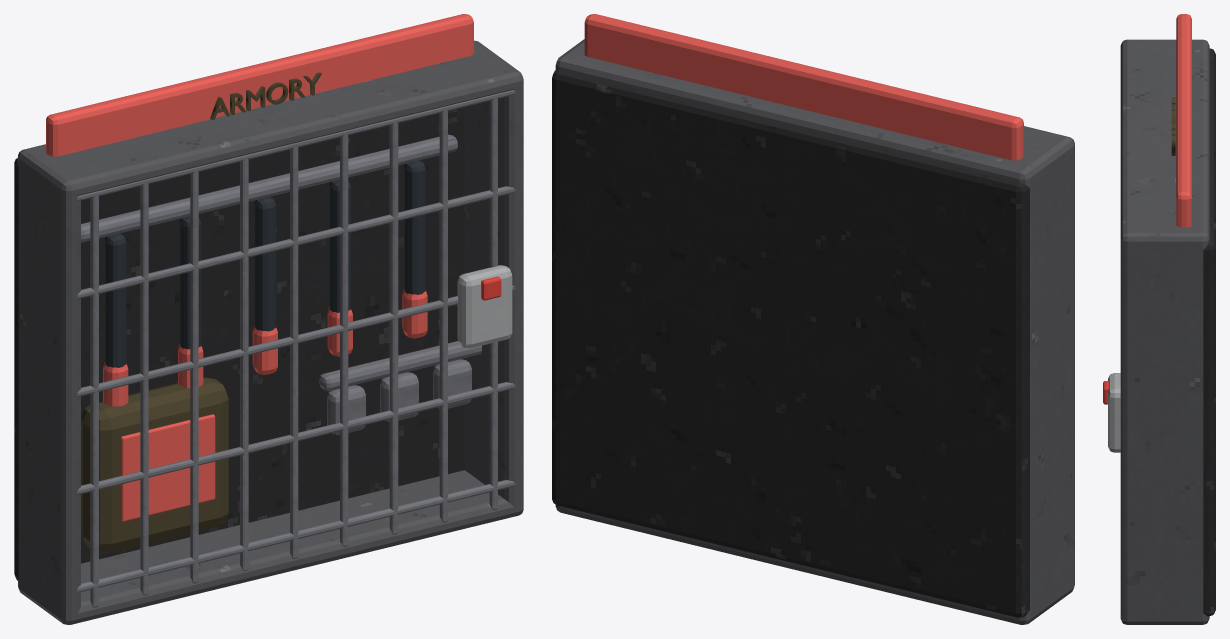
The model's file is decor_sec_armory_rack.glb.
3 views of the same model, side by side, from view 1: azimuth 30°, elevation 25°; view 2: azimuth 150°, elevation 25°; view 3: azimuth 270°, elevation 25° (orthographic). The views are drawn at different scales.
Visible parts, largest first — view 1: DEC_SecArmoryRack__Cabinet_Back, DEC_SecArmoryRack__Cabinet_Post_1, DEC_SecArmoryRack__Cabinet_Frame, DEC_SecArmoryRack__Cabinet_Sill, DEC_SecArmoryRack__Header, DEC_SecArmoryRack__Cabinet_Post_2, DEC_SecArmoryRack__Vest, DEC_SecArmoryRack__Vest_Panel, DEC_SecArmoryRack__Baton_Rail, DEC_SecArmoryRack__Mesh_Bar_V_7, DEC_SecArmoryRack__Lock_Plate, DEC_SecArmoryRack__Mesh_Bar_H_2 (+25 smaller); view 2: DEC_SecArmoryRack__Cabinet_Back, DEC_SecArmoryRack__Cabinet_Post_1, DEC_SecArmoryRack__Header, DEC_SecArmoryRack__Cabinet_Frame, DEC_SecArmoryRack__Cabinet_Sill; view 3: DEC_SecArmoryRack__Cabinet_Post_2, DEC_SecArmoryRack__Cabinet_Frame, DEC_SecArmoryRack__Cabinet_Back, DEC_SecArmoryRack__Header, DEC_SecArmoryRack__Lock_Plate, DEC_SecArmoryRack__Cabinet_Sill, DEC_SecArmoryRack__Header_Text, DEC_SecArmoryRack__Cabinet_Post_1.
Part boxes in pixels (x1,y1,x2,y2): DEC_SecArmoryRack__Cabinet_Back: [14, 107, 464, 580]; DEC_SecArmoryRack__Cabinet_Post_1: [18, 148, 80, 624]; DEC_SecArmoryRack__Cabinet_Frame: [18, 41, 523, 196]; DEC_SecArmoryRack__Cabinet_Sill: [18, 470, 523, 624]; DEC_SecArmoryRack__Header: [46, 14, 473, 156]; DEC_SecArmoryRack__Cabinet_Post_2: [464, 40, 523, 513]; DEC_SecArmoryRack__Vest: [81, 377, 228, 552]; DEC_SecArmoryRack__Vest_Panel: [120, 414, 215, 521]; DEC_SecArmoryRack__Baton_Rail: [81, 134, 457, 242]; DEC_SecArmoryRack__Mesh_Bar_V_7: [389, 122, 398, 534]; DEC_SecArmoryRack__Lock_Plate: [457, 265, 512, 348]; DEC_SecArmoryRack__Mesh_Bar_H_2: [77, 382, 515, 494]; DEC_SecArmoryRack__Cabinet_Back: [552, 70, 1029, 617]; DEC_SecArmoryRack__Cabinet_Post_1: [1015, 135, 1074, 624]; DEC_SecArmoryRack__Header: [584, 14, 1023, 160]; DEC_SecArmoryRack__Cabinet_Frame: [555, 39, 1074, 185]; DEC_SecArmoryRack__Cabinet_Sill: [557, 506, 1074, 624]; DEC_SecArmoryRack__Cabinet_Post_2: [1120, 230, 1209, 624]; DEC_SecArmoryRack__Cabinet_Frame: [1120, 39, 1209, 246]; DEC_SecArmoryRack__Cabinet_Back: [1203, 48, 1215, 616]; DEC_SecArmoryRack__Header: [1176, 14, 1191, 227]; DEC_SecArmoryRack__Lock_Plate: [1108, 373, 1120, 452]; DEC_SecArmoryRack__Cabinet_Sill: [1120, 614, 1209, 624]; DEC_SecArmoryRack__Header_Text: [1171, 97, 1175, 155]; DEC_SecArmoryRack__Cabinet_Post_1: [1125, 39, 1204, 42].
Size of the model in its own units: 1.48 by 1.48 by 0.355.
Materials: 8 (4 with a texture image).
